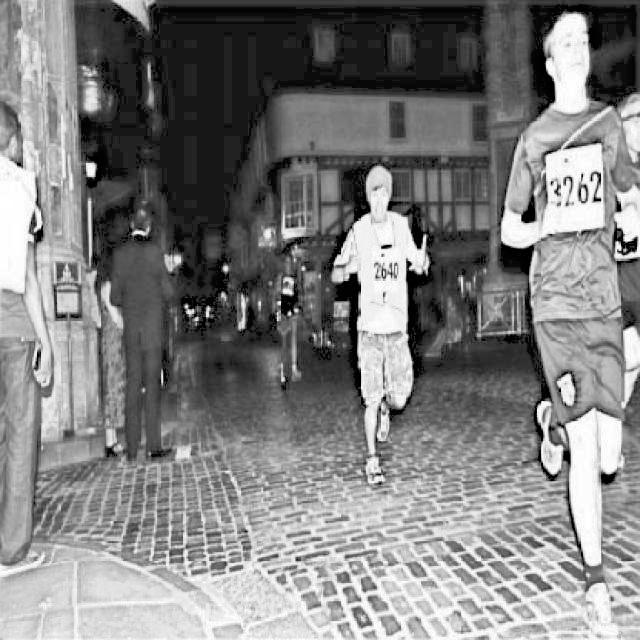Person: (503, 6, 640, 640), (332, 143, 435, 494), (0, 93, 63, 582), (110, 203, 179, 463), (98, 258, 129, 460), (272, 248, 303, 393)
